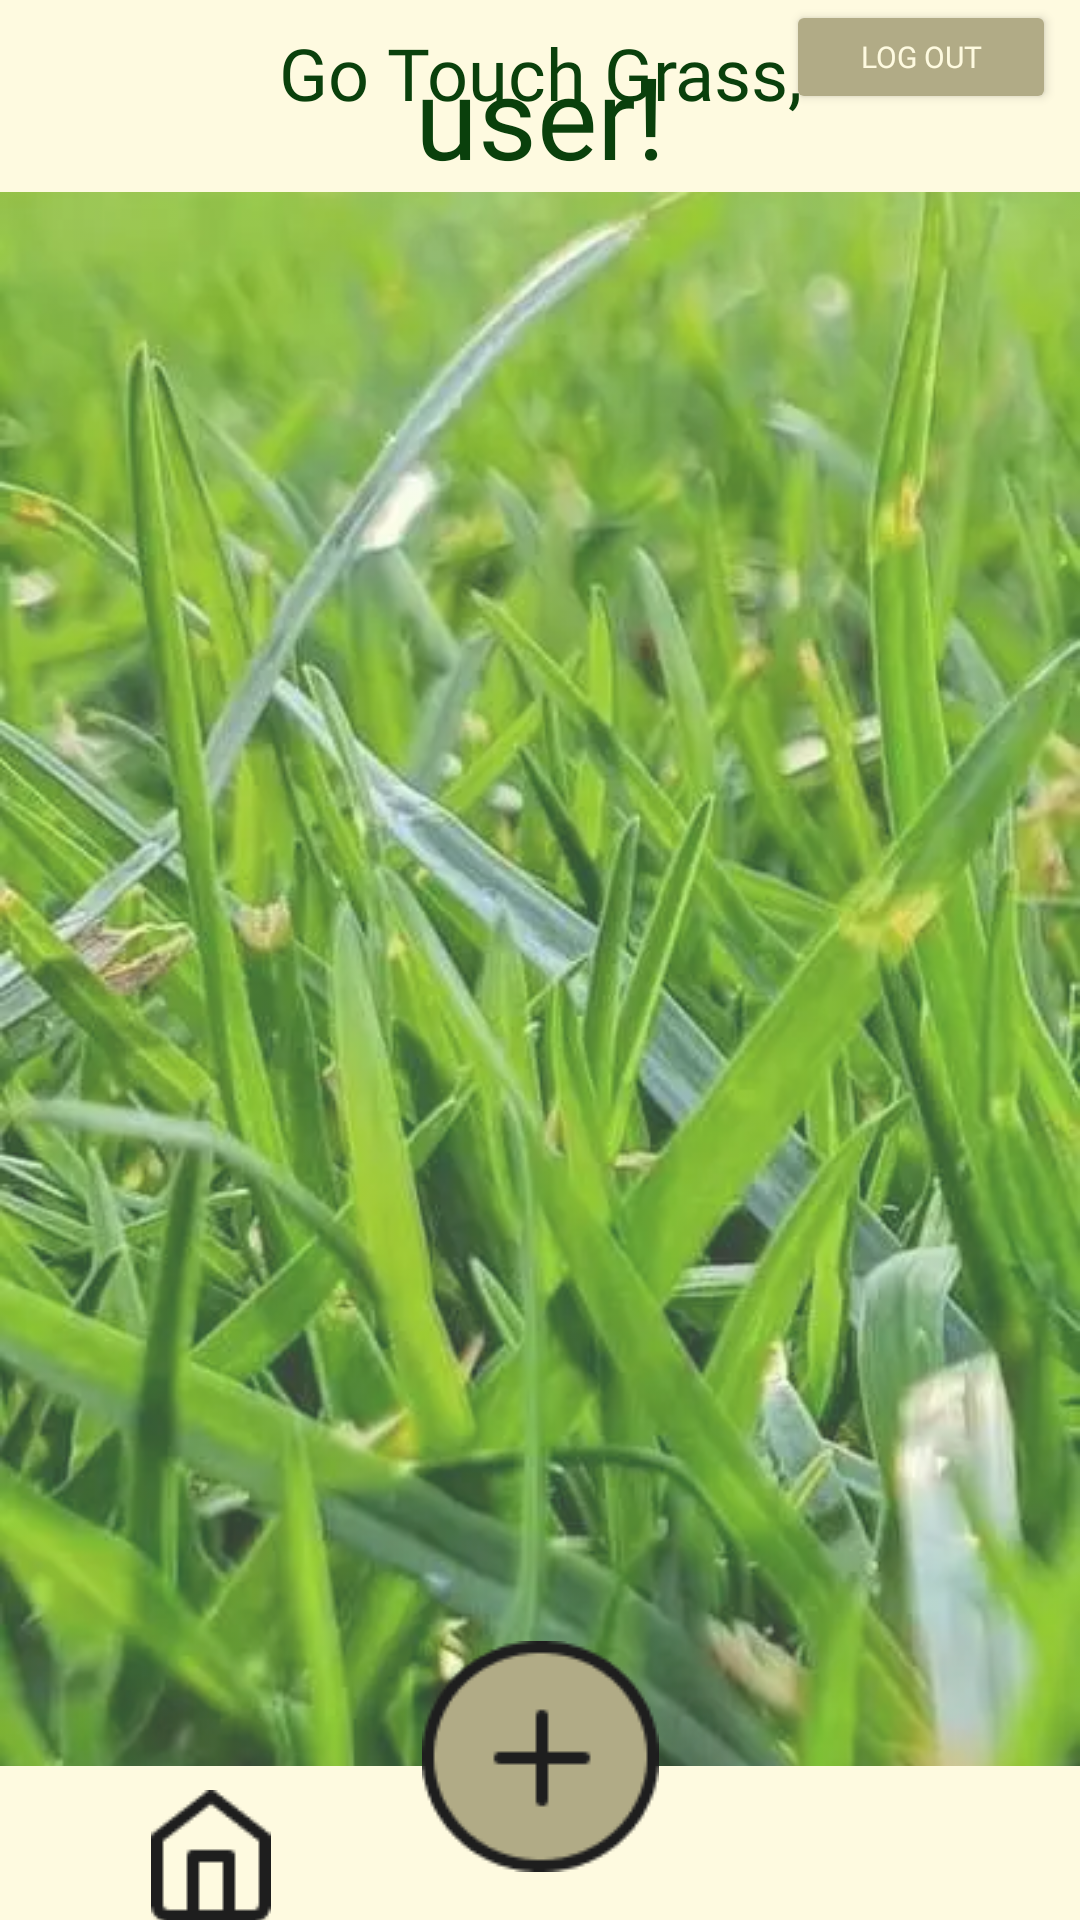

Icons on this 1080 x 1920 Android screen, each with the point to tap as (x=x, y=y):
add: (x=540, y=1756)
home: (x=211, y=1855)
